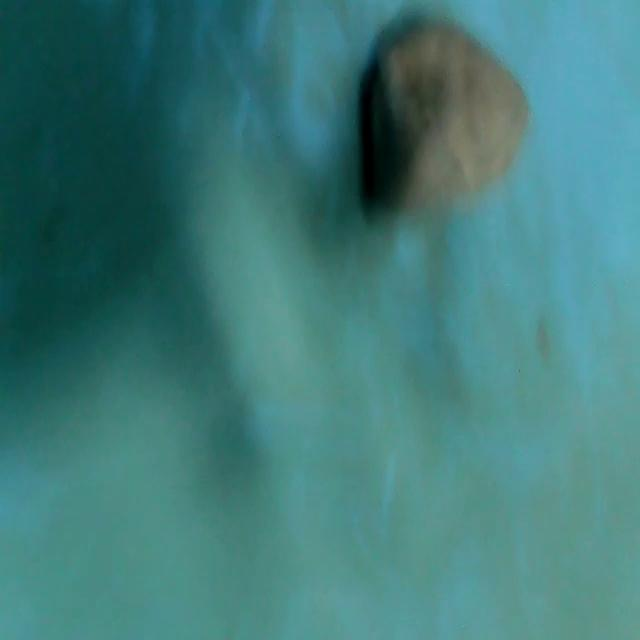rock: (355, 20, 536, 234)
